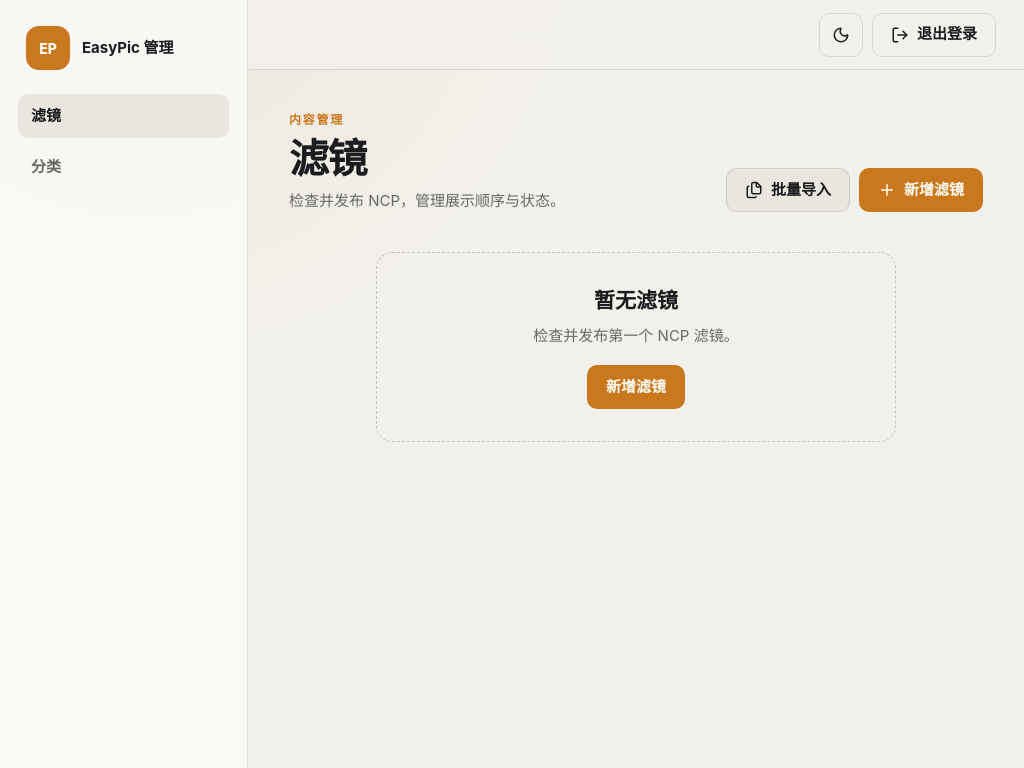
admin application routing › returns to login after logout succeeds
The image size is (1024, 768).
Click the button "退出登录" at (934, 34), box [872,12,996,56]
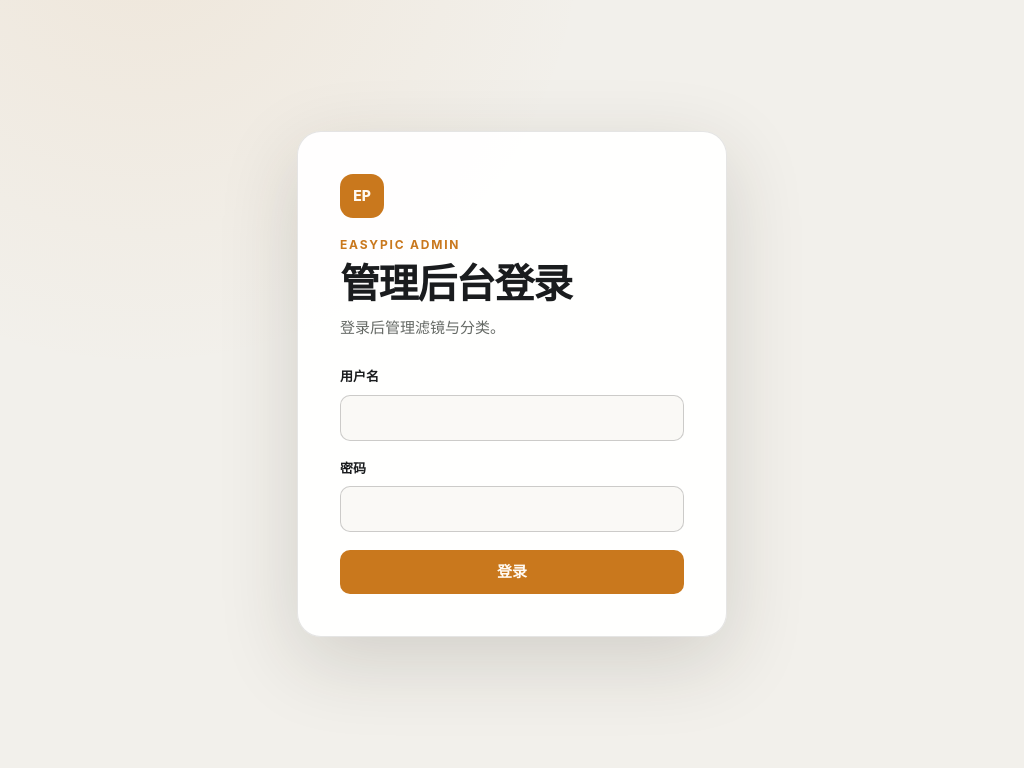
Expected: the heading "管理后台登录" is shown, [340,259,572,308]
